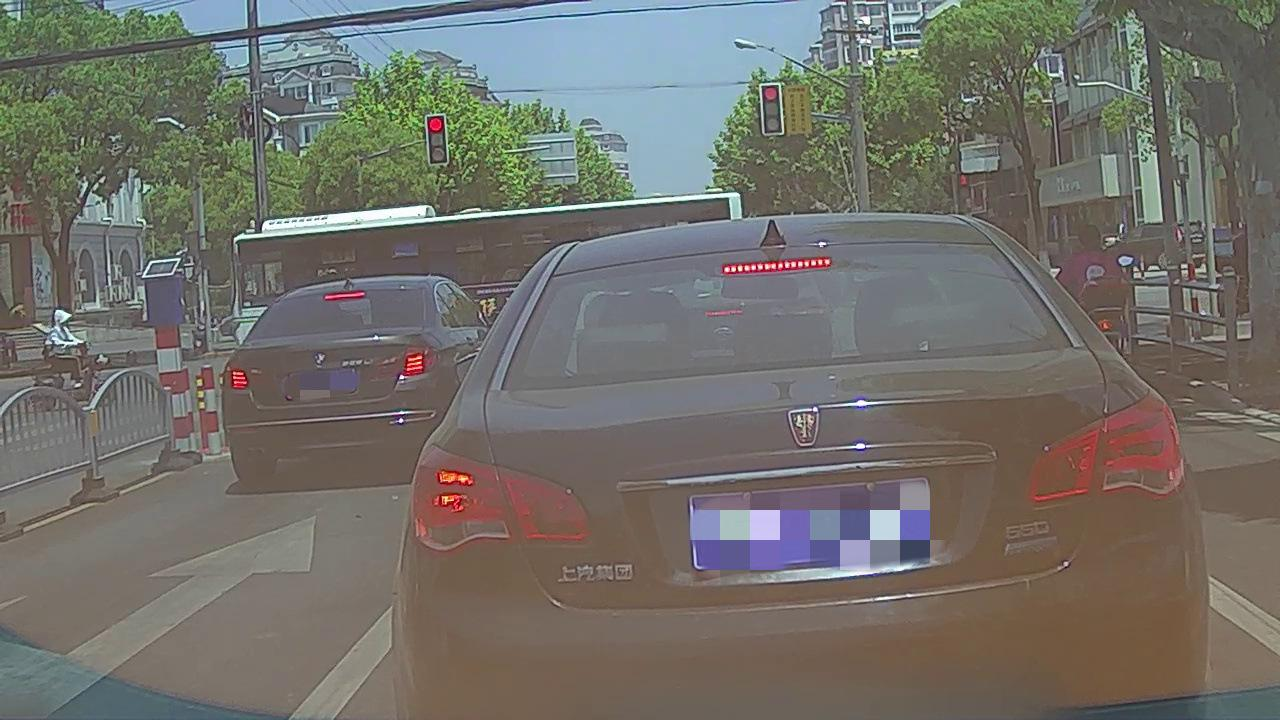traffic_light: (763, 85, 784, 134), (427, 115, 447, 165)
